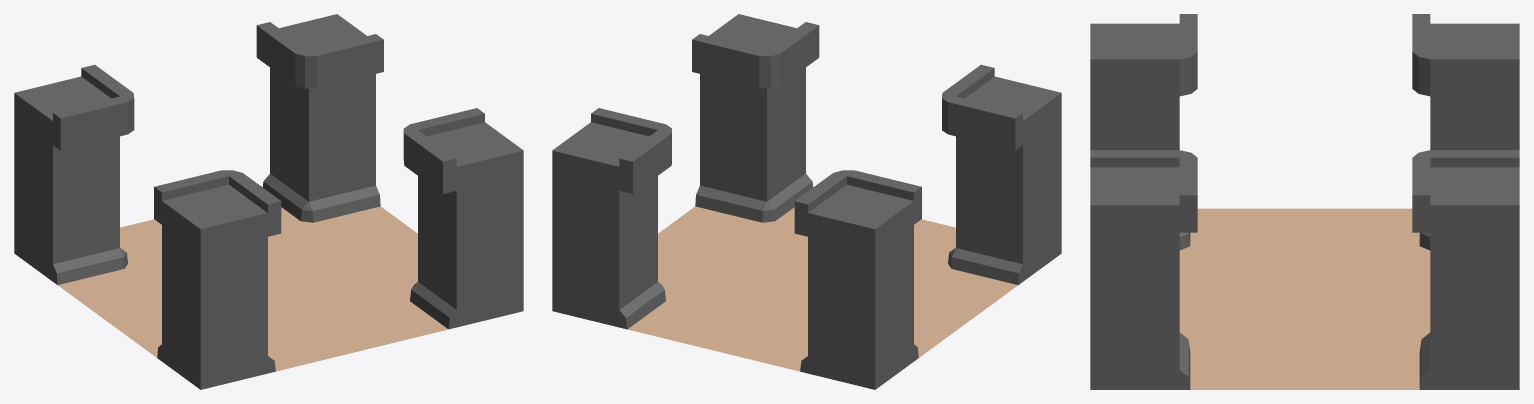
Rendered from Segment_Crossing.FBX.
3 renders of one model, left to right at view 1: azimuth 30°, elevation 25°; view 2: azimuth 150°, elevation 25°; view 3: azimuth 270°, elevation 25°, orthographic. The views are drawn at different scales.
Visible parts, largest first — view 1: Plane009, Box090, Box091, Box092, Box089; view 2: Plane009, Box092, Box089, Box090, Box091; view 3: Plane009, Box089, Box091, Box090, Box092.
Boxes of the visible parts, bbox=[...] form: Plane009: bbox=[58, 206, 448, 371]; Box090: bbox=[154, 170, 281, 389]; Box091: bbox=[403, 108, 523, 329]; Box092: bbox=[14, 64, 134, 284]; Box089: bbox=[256, 14, 383, 222]; Plane009: bbox=[627, 206, 1017, 371]; Box092: bbox=[794, 170, 921, 389]; Box089: bbox=[552, 108, 671, 329]; Box090: bbox=[942, 64, 1061, 284]; Box091: bbox=[692, 14, 819, 222]; Plane009: bbox=[1179, 208, 1430, 389]; Box089: bbox=[1412, 150, 1519, 389]; Box091: bbox=[1090, 150, 1197, 389]; Box090: bbox=[1090, 14, 1197, 250]; Box092: bbox=[1412, 14, 1519, 250].
Bounding box in the file's own units: 400 × 200 × 400.
